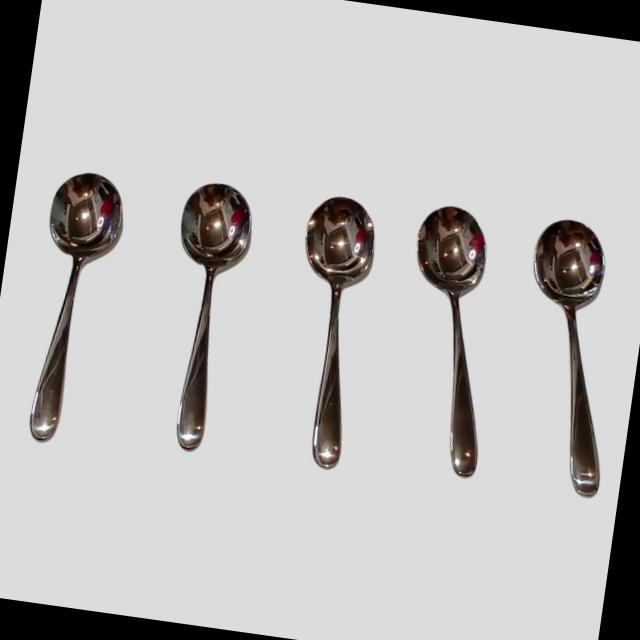spoon: (266, 180, 408, 491)
